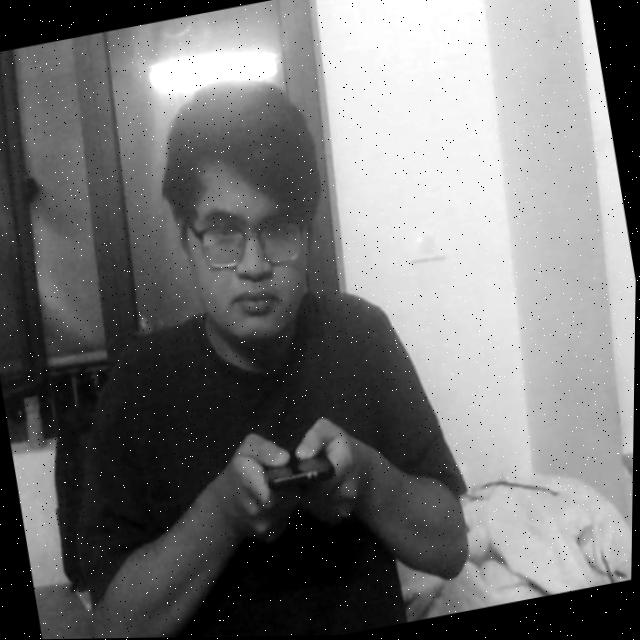phone: (248, 425, 347, 529)
